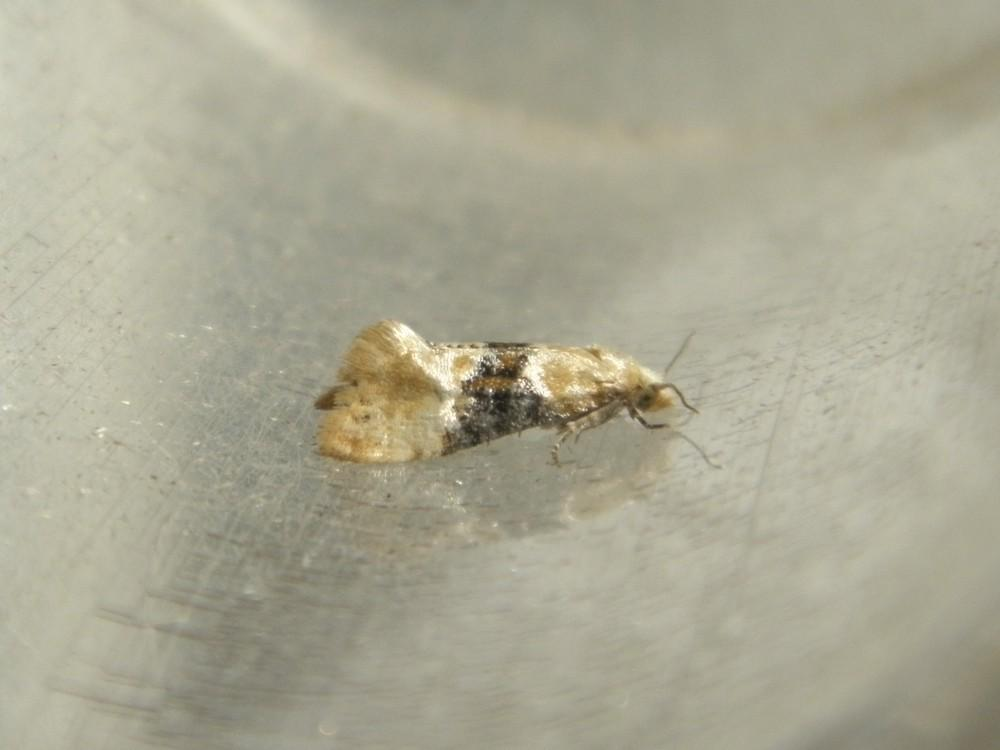Eupoecilia Ambiguella: (310, 315, 721, 474)
